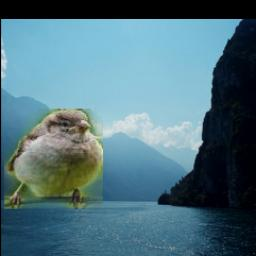Sparrow: (5, 109, 104, 209)
